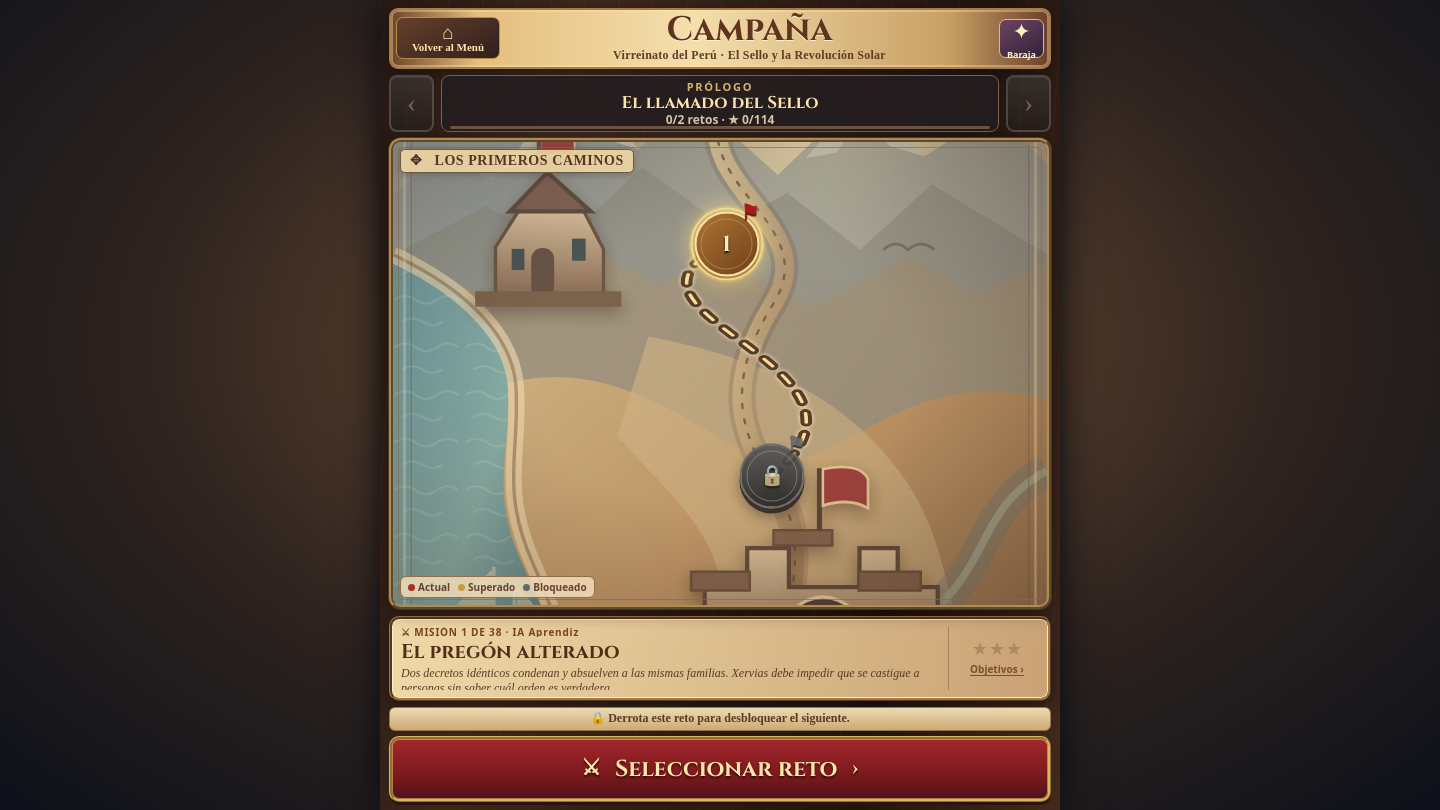
Test: the prominent select challenge button enters the existing briefing route
Step 1. Click the button "⚔ Seleccionar reto ›" → [720, 769], box [389,736,1051,802]
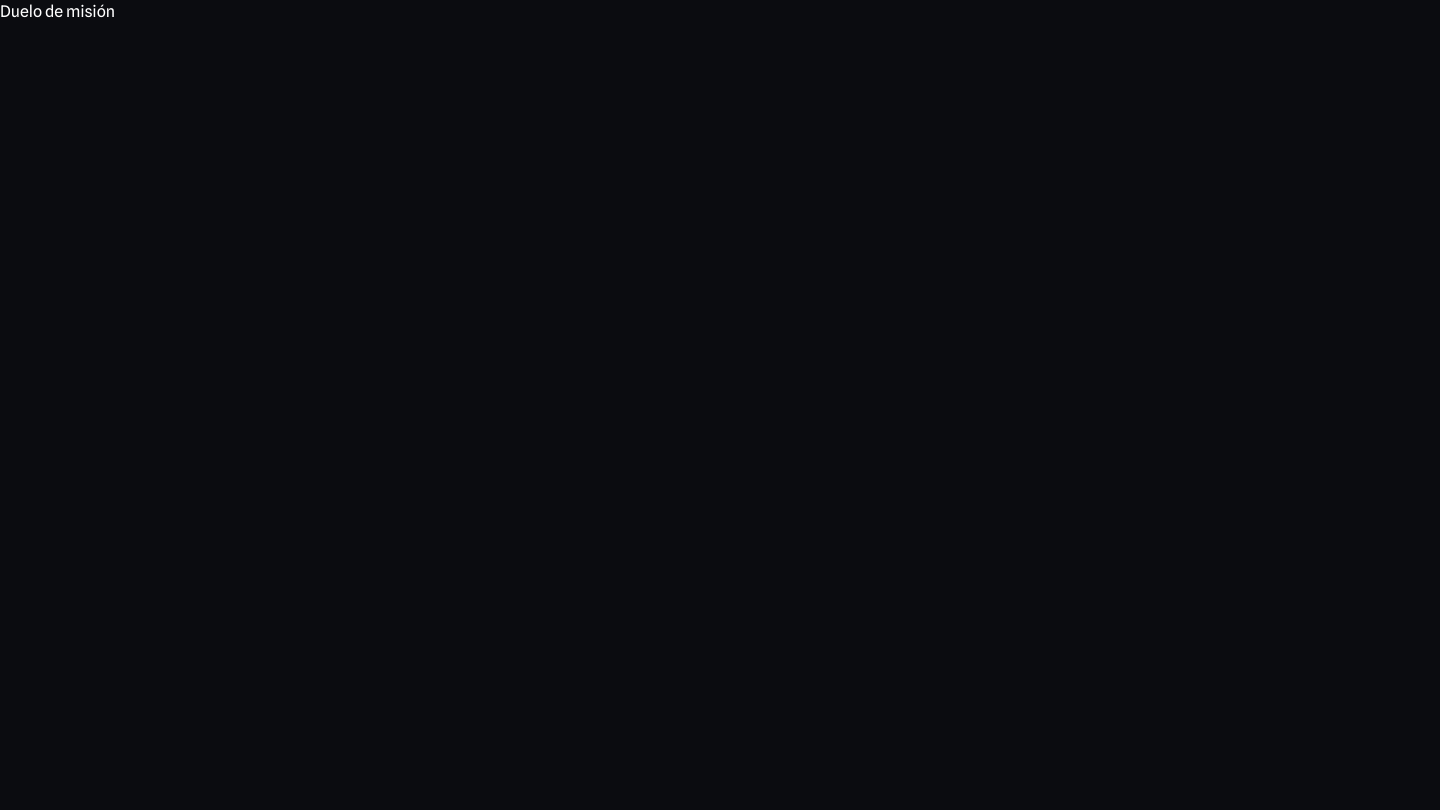
Expected: the heading "Duelo de misión" is shown, [0,2,115,21]
